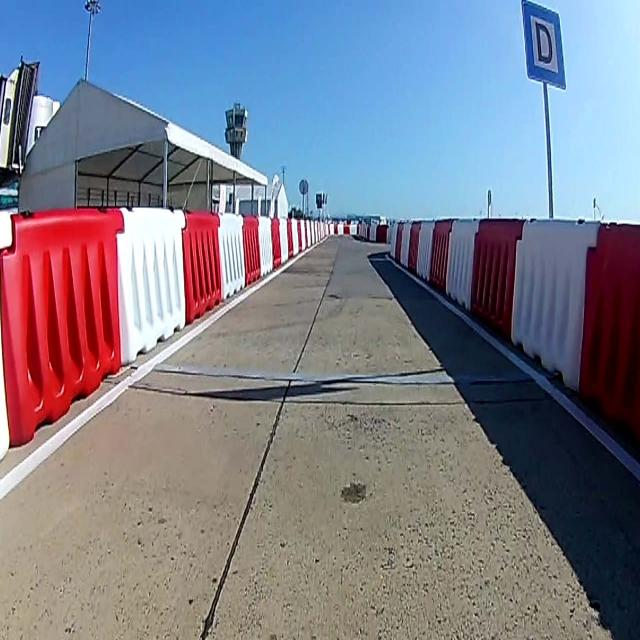durak: (522, 4, 564, 87)
